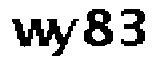3: (118, 6, 147, 50)
8: (83, 8, 115, 48)
w: (8, 16, 53, 50)
y: (50, 17, 79, 59)
